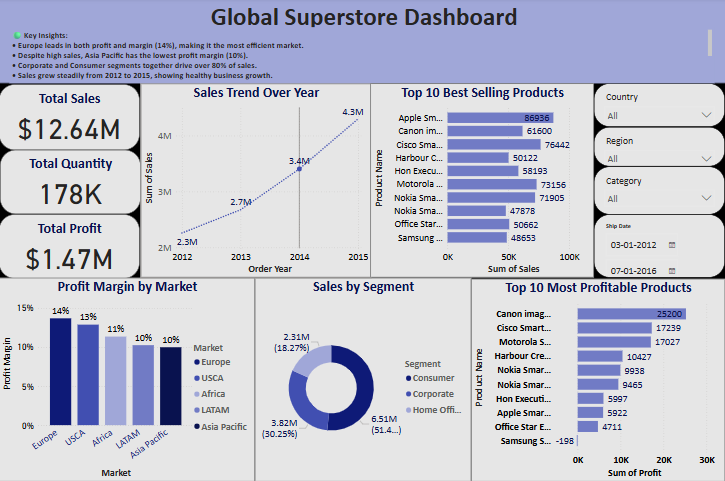

The page's visual inventory and layout, read from the dashboard file:
{"tool":"powerbi","page":{"name":"Page 1","canvas":[1380,920],"ordinal":0},"visuals":[{"type":"card","title":"Total Sales","fields":{"Values":["Sum(Orders.Sales)"]},"box":[0,164.1,266.9,124.6],"z":0},{"type":"textbox","box":[0,0,2000.8,162.1],"z":1000},{"type":"card","title":"Total Quantity","fields":{"Values":["Sum(Orders.Quantity)"]},"box":[2,288.6,266.9,122.6],"z":2000},{"type":"card","title":"Total Profit","fields":{"Values":["Sum(Orders.Profit)"]},"box":[0,411.2,266.9,122.6],"z":3000},{"type":"columnChart","title":"Profit Margin by Market","fields":{"Category":["Orders.Market"],"Series":["Orders.Market"],"Y":["Orders.Profit Margin"]},"box":[0,531.8,486.4,387.5],"z":4000},{"type":"slicer","fields":{"Values":["Orders.Region"]},"box":[1130.9,245.2,249.1,75.1],"z":5000},{"type":"slicer","fields":{"Values":["Orders.Country"]},"box":[1130.9,162.1,249.1,83],"z":6000},{"type":"donutChart","title":"Sales by Segment","fields":{"Category":["Orders.Segment"],"Y":["Sum(Orders.Sales)"]},"box":[486.4,531.8,411.2,387.5],"z":7000},{"type":"lineChart","title":"Sales Trend Over Year","fields":{"Category":["Orders.Order Year"],"Y":["Sum(Orders.Sales)"]},"box":[268.9,162.1,438.9,369.7],"z":8000},{"type":"slicer","fields":{"Values":["Orders.Category"]},"box":[1130.9,320.3,249.1,90.9],"z":9000},{"type":"barChart","title":"Top 10 Most Profitable Products","fields":{"Category":["Orders.Product Name"],"Y":["Sum(Orders.Profit)"]},"box":[897.6,533.8,482.4,385.5],"z":10000},{"type":"slicer","fields":{"Values":["Orders.Ship Date"]},"box":[1130.9,411.2,249.1,120.6],"z":11000},{"type":"barChart","title":"Top 10 Best Selling Products","fields":{"Category":["Orders.Product Name"],"Y":["Sum(Orders.Sales)"]},"box":[705.8,162.1,425.1,369.7],"z":12000},{"type":"textbox","box":[19.8,55.4,1340.4,106.8],"z":13000}]}

Visuals, with their boxes in screenshot pixels (x1, y1, x2, y2), scaled from the page's 1380x920 canvas onto the 725x481 screenshot:
"Total Sales" card: 0, 86, 140, 151
textbox: 0, 0, 724, 85
"Total Quantity" card: 1, 151, 141, 215
"Total Profit" card: 0, 215, 140, 279
"Profit Margin by Market" columnChart: 0, 278, 256, 480
slicer - Orders.Region: 594, 128, 724, 167
slicer - Orders.Country: 594, 85, 724, 128
"Sales by Segment" donutChart: 256, 278, 472, 480
"Sales Trend Over Year" lineChart: 141, 85, 372, 278
slicer - Orders.Category: 594, 167, 724, 215
"Top 10 Most Profitable Products" barChart: 472, 279, 724, 480
slicer - Orders.Ship Date: 594, 215, 724, 278
"Top 10 Best Selling Products" barChart: 371, 85, 594, 278
textbox: 10, 29, 715, 85
